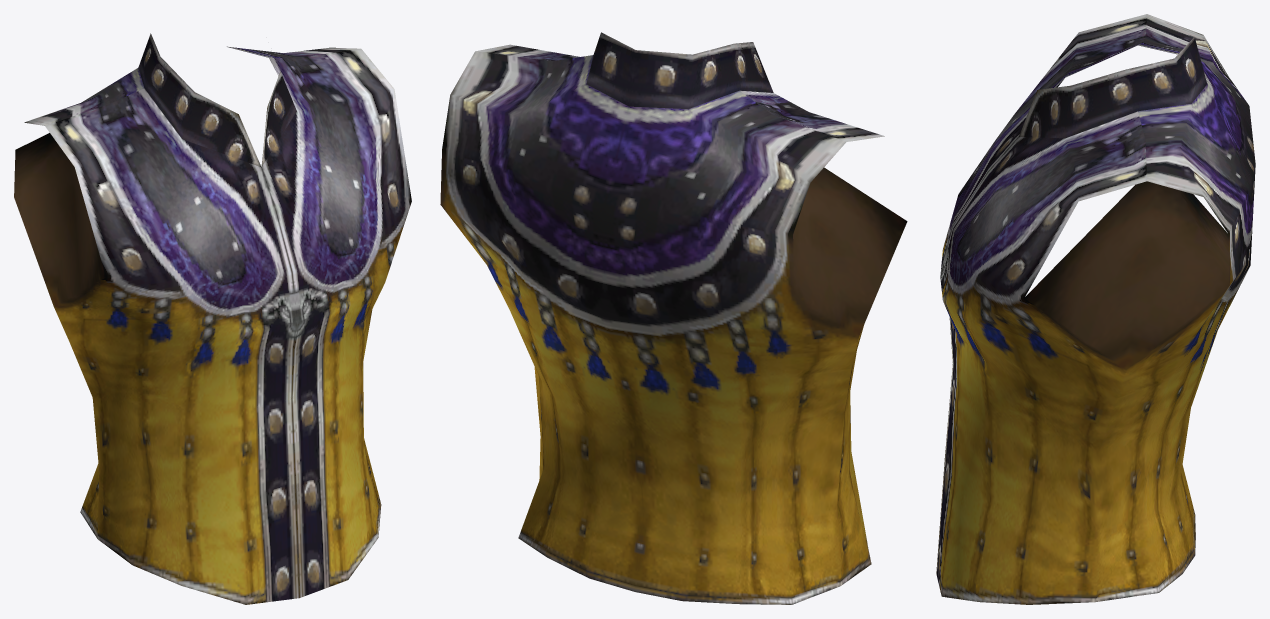
The model's file is light_04_ba.glb.
3 views of the same model, side by side, from view 1: azimuth 30°, elevation 25°; view 2: azimuth 150°, elevation 25°; view 3: azimuth 270°, elevation 25° (orthographic). The views are drawn at different scales.
Parts seen in each view (by area): view 1: light_04_ba; view 2: light_04_ba; view 3: light_04_ba.
Boxes of the visible parts, <box> form: light_04_ba: <box>14,33,411,604</box>; light_04_ba: <box>440,32,907,604</box>; light_04_ba: <box>936,14,1255,604</box>.
Bounding box in the file's own units: 0.3526 × 0.522 × 0.2813.
Materials: 1 (1 with a texture image).
